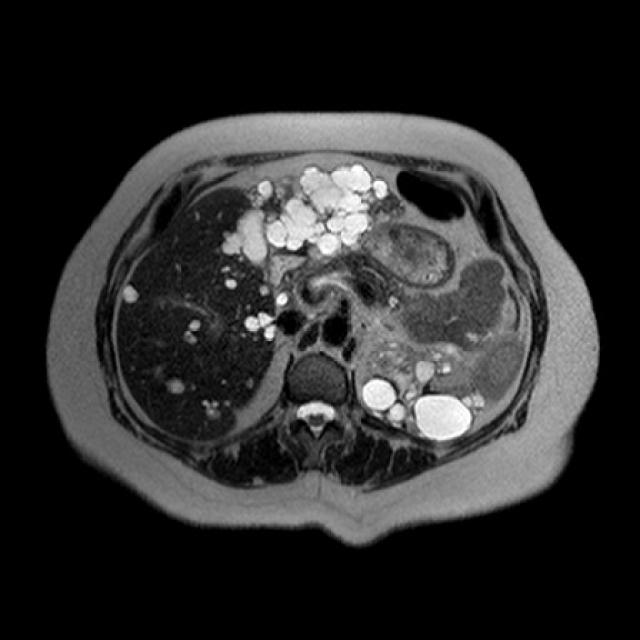sol: (360, 337, 487, 440)
